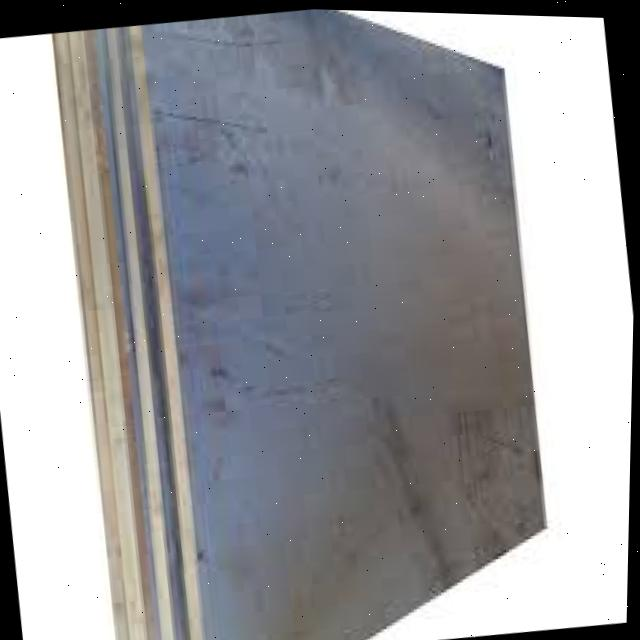Dry: (49, 7, 547, 640)
